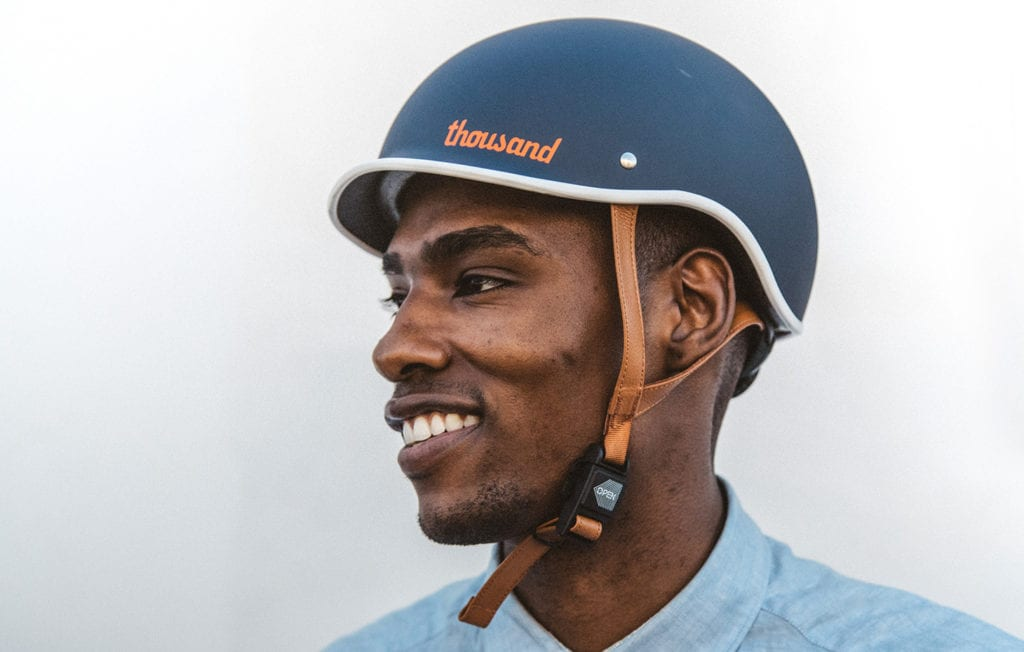Helmet: (315, 8, 824, 340)
